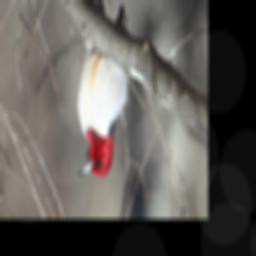Woodpecker: (74, 0, 131, 177)
